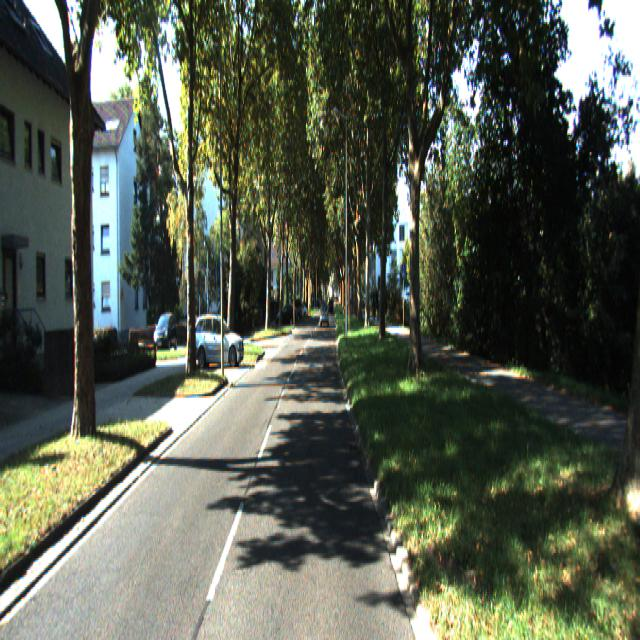Car: (190, 313, 246, 368)
